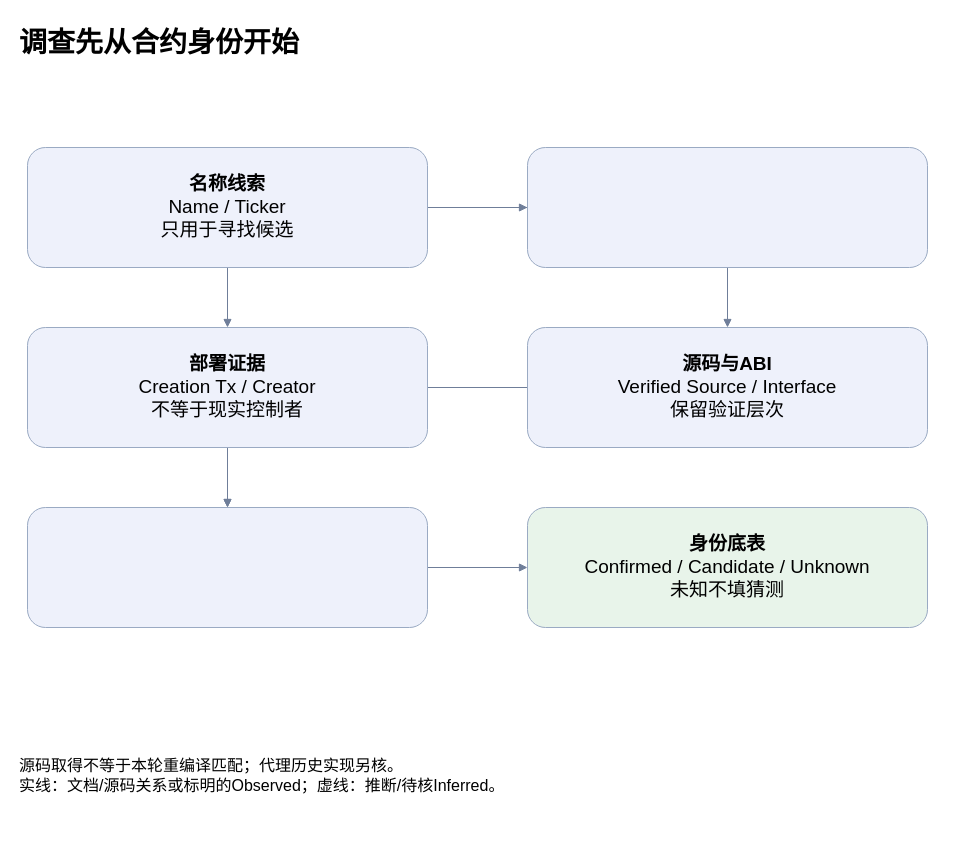
The diagram is 954 pixels wide and 849 high, and some of its shapes have lost their labels. Here are the shapes that lost their labels. From the top down, the centre of each, then its label:
the point at 727,207: 链与地址 Chain + Contract 固定研究对象
the point at 227,567: 角色关联 Token / Staking / Pair 每条关系有依据
